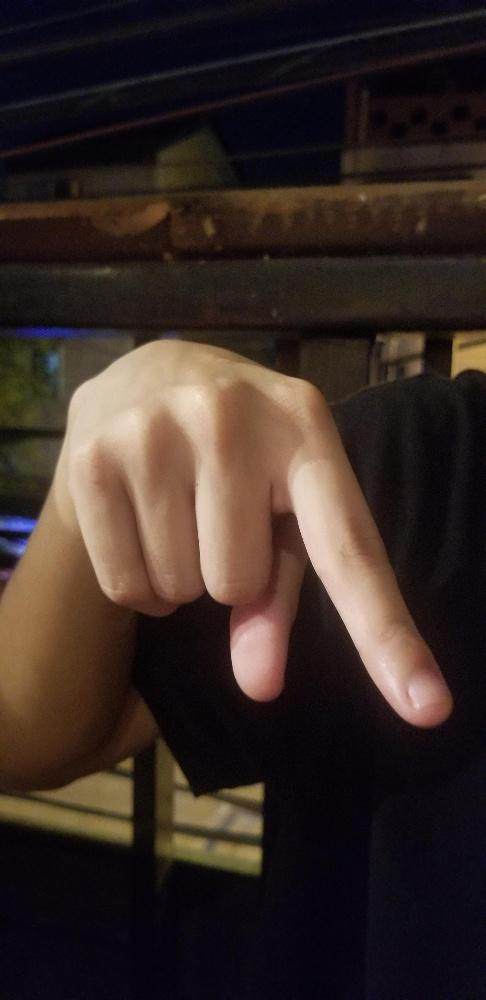z: (56, 335, 456, 732)
